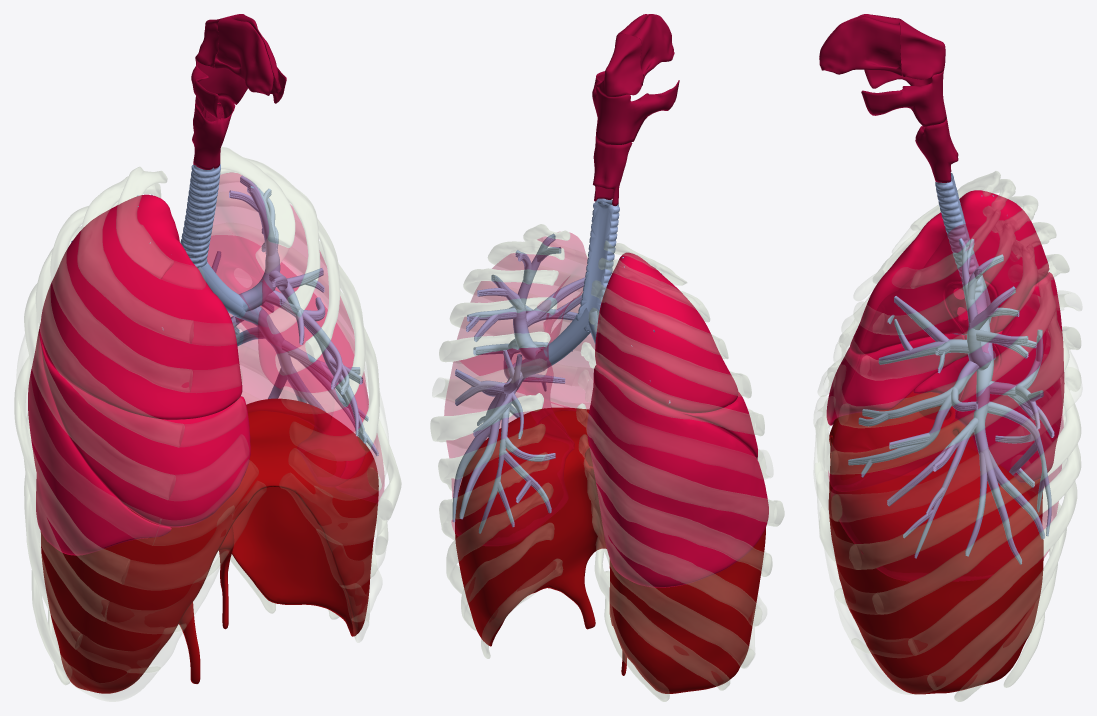
Rendered from Respiratory_System.glb.
3 renders of one model, left to right at view 1: azimuth 30°, elevation 25°; view 2: azimuth 150°, elevation 25°; view 3: azimuth 270°, elevation 25°, orthographic. The views are drawn at different scales.
Visible parts, largest first — view 1: Rib, right lung, Diaphragm, left lung, Bronchus, NasalCavity, Trachea; view 2: Rib, right lung, Diaphragm, left lung, Bronchus, NasalCavity, Trachea; view 3: Rib, Diaphragm, left lung, right lung, Bronchus, NasalCavity, Trachea.
Part boxes in pixels (box(x1,y1,x2,y2)): Rib: box(14, 147, 401, 701); right lung: box(28, 194, 250, 555); Diaphragm: box(41, 398, 378, 693); left lung: box(207, 172, 384, 504); Bronchus: box(71, 175, 378, 455); NasalCavity: box(191, 14, 286, 169); Trachea: box(180, 164, 220, 267); Rib: box(430, 224, 784, 701); right lung: box(587, 252, 768, 587); Diaphragm: box(455, 407, 765, 693); left lung: box(444, 232, 594, 545); Bronchus: box(452, 233, 670, 533); NasalCavity: box(592, 14, 679, 206); Trachea: box(575, 198, 619, 332); Rib: box(814, 171, 1081, 701); Diaphragm: box(828, 391, 1043, 694); left lung: box(828, 224, 1063, 581); right lung: box(826, 190, 1064, 482); Bronchus: box(848, 195, 1054, 564); NasalCavity: box(819, 14, 958, 182); Trachea: box(935, 173, 983, 292).
Size of the model in its own units: 0.2833 by 0.5553 by 0.2102.
